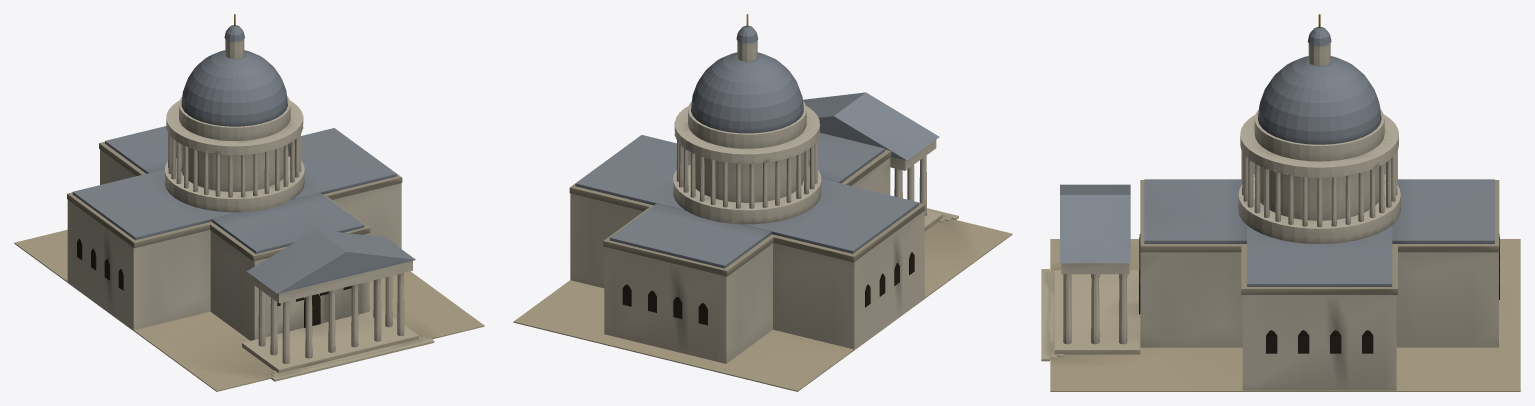
File: pantheon.glb
3 views of the same model, side by side, from view 1: azimuth 30°, elevation 25°; view 2: azimuth 150°, elevation 25°; view 3: azimuth 270°, elevation 25° (orthographic). The views are drawn at different scales.
Parts seen in each view (by area): view 1: p0_walls, p2_dome, p1_portico; view 2: p0_walls, p2_dome, p1_portico; view 3: p0_walls, p2_dome, p1_portico.
Part boxes in pixels (x1,y1,x2,y2): p0_walls: [14, 126, 484, 391]; p2_dome: [165, 14, 304, 212]; p1_portico: [242, 229, 434, 381]; p0_walls: [513, 133, 1012, 391]; p2_dome: [673, 14, 821, 224]; p1_portico: [803, 92, 958, 231]; p0_walls: [1050, 150, 1520, 391]; p2_dome: [1238, 14, 1400, 244]; p1_portico: [1041, 184, 1140, 361].
Size of the model in its own units: 84.35 by 77.94 by 112.
